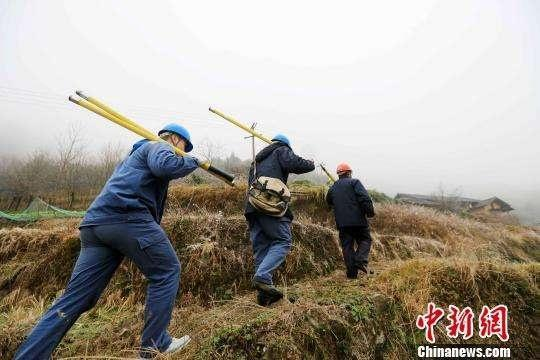person: (85, 118, 193, 360), (237, 133, 307, 321), (330, 160, 376, 286)
